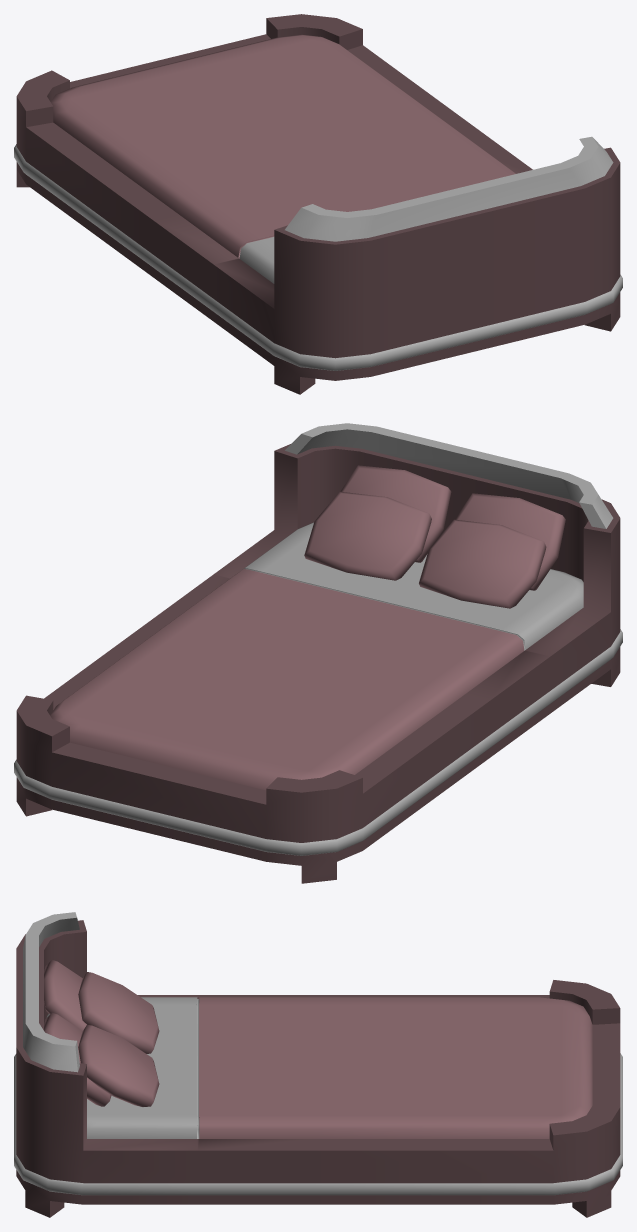
File: prop_Bed.fbx
3 views of the same model, one above another, from view 1: azimuth 30°, elevation 25°; view 2: azimuth 150°, elevation 25°; view 3: azimuth 270°, elevation 25° (orthographic). The views are drawn at different scales.
Visible parts, largest first — view 1: Bed; view 2: Bed; view 3: Bed.
Boxes of the visible parts, x1,y1,x2,y2 form: Bed: (14,14,622,394); Bed: (14,423,622,883); Bed: (14,912,622,1217).
Bounding box in the file's own units: 877 × 429 × 1437.
